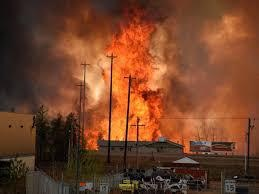fire: (89, 13, 167, 146)
